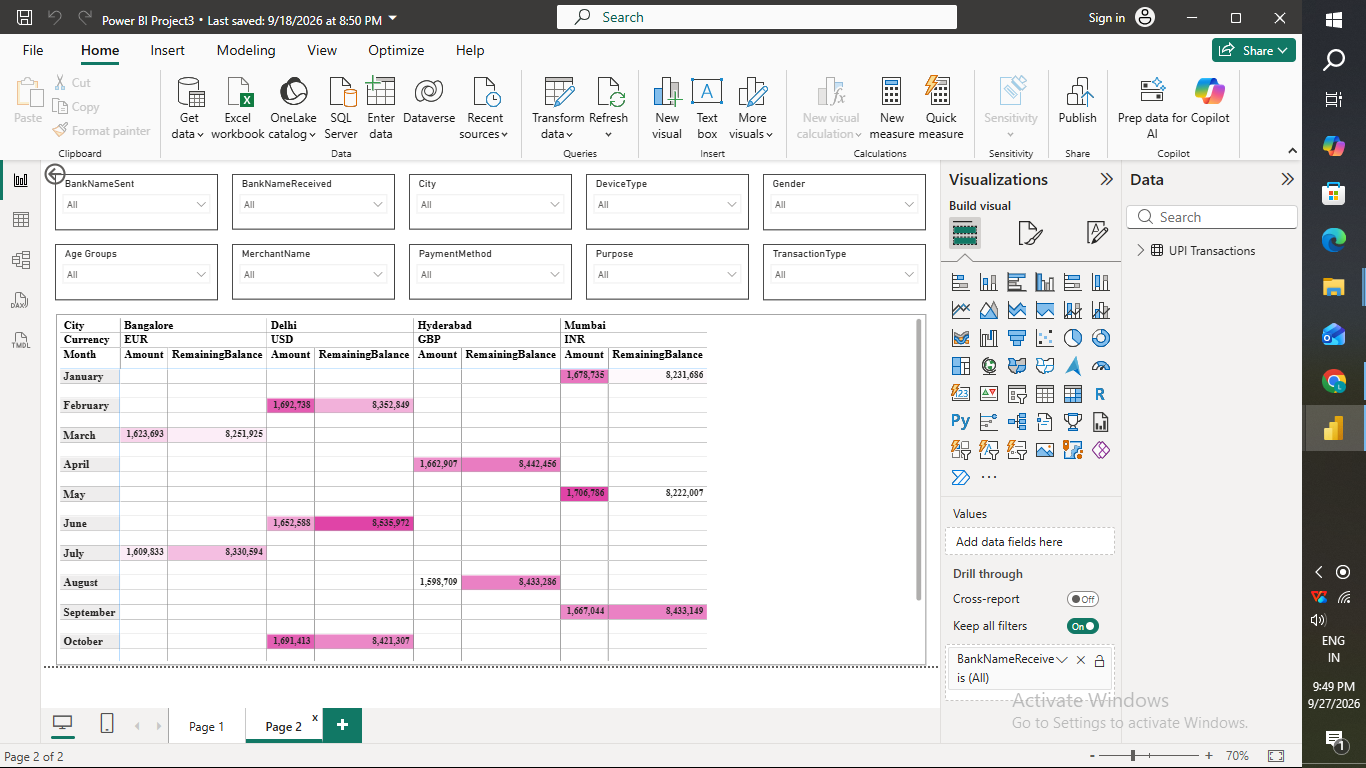

What the dashboard file says about the page in this screenshot:
{"tool":"powerbi","page":{"name":"Page 2","canvas":[1280,720],"ordinal":1},"visuals":[{"type":"slicer","fields":{"Values":["UPI Transactions.BankNameSent"]},"box":[20,20,232,80],"z":0},{"type":"slicer","fields":{"Values":["UPI Transactions.BankNameReceived"]},"box":[271.4,20.6,231.7,79.4],"z":1000},{"type":"slicer","fields":{"Values":["UPI Transactions.City"]},"box":[524,20.6,231.7,79.4],"z":2000},{"type":"slicer","fields":{"Values":["UPI Transactions.DeviceType"]},"box":[776,20.6,231.7,79.4],"z":3000},{"type":"slicer","fields":{"Values":["UPI Transactions.Gender"]},"box":[1028,20.6,232,80],"z":4000},{"type":"slicer","fields":{"Values":["UPI Transactions.Age Groups"]},"box":[20.5,118.9,232,80],"z":5000},{"type":"slicer","fields":{"Values":["UPI Transactions.MerchantName"]},"box":[271.9,119.5,231.7,79.4],"z":6000},{"type":"slicer","fields":{"Values":["UPI Transactions.PaymentMethod"]},"box":[524.5,119.5,231.7,79.4],"z":7000},{"type":"slicer","fields":{"Values":["UPI Transactions.Purpose"]},"box":[776.5,119.5,231.7,79.4],"z":8000},{"type":"slicer","fields":{"Values":["UPI Transactions.TransactionType"]},"box":[1028.5,119.5,232,80],"z":9000},{"type":"actionButton","box":[0,0,100,40],"z":10000},{"type":"pivotTable","fields":{"Columns":["UPI Transactions.City","UPI Transactions.Currency"],"Rows":["UPI Transactions.TransactionDate.Variation.Date Hierarchy.Month"],"Values":["Sum(UPI Transactions.Amount)","Sum(UPI Transactions.RemainingBalance)"]},"box":[21.8,219.6,1239.3,500.4],"z":11000}]}

Visuals, with their boxes on the page's 1280x720 design canvas (x1, y1, x2, y2). These are canvas units, not pixel positions in the 1366x768 screenshot, which may show the page scaled, cropped or inside an application window:
slicer - UPI Transactions.BankNameSent: rect(20, 20, 252, 100)
slicer - UPI Transactions.BankNameReceived: rect(271, 21, 503, 100)
slicer - UPI Transactions.City: rect(524, 21, 756, 100)
slicer - UPI Transactions.DeviceType: rect(776, 21, 1008, 100)
slicer - UPI Transactions.Gender: rect(1028, 21, 1260, 101)
slicer - UPI Transactions.Age Groups: rect(20, 119, 252, 199)
slicer - UPI Transactions.MerchantName: rect(272, 120, 504, 199)
slicer - UPI Transactions.PaymentMethod: rect(524, 120, 756, 199)
slicer - UPI Transactions.Purpose: rect(776, 120, 1008, 199)
slicer - UPI Transactions.TransactionType: rect(1028, 120, 1260, 200)
actionButton: rect(0, 0, 100, 40)
pivotTable - UPI Transactions.City x UPI Transactions.Currency: rect(22, 220, 1261, 720)
